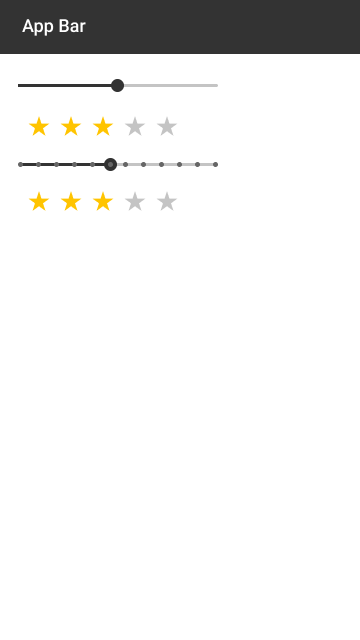ratingBar: (22, 112, 181, 140), (23, 188, 183, 214)
slider1: (12, 152, 222, 176), (13, 75, 221, 95)
toolbar: (1, 1, 360, 55)
